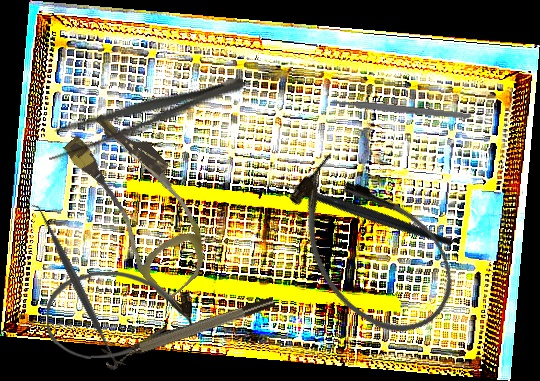Cannula: (262, 136, 477, 358), (45, 103, 236, 303), (46, 270, 193, 360)
Chopper: (260, 124, 456, 306)
Dressing Forceps: (39, 63, 250, 167)
Fixation Ring: (101, 293, 279, 372)
Scalpel Handle: (329, 97, 473, 121)
Spatula Surgical: (28, 198, 128, 373)
